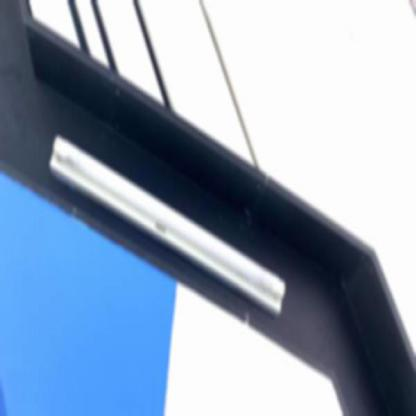light_off: (44, 119, 296, 353)
